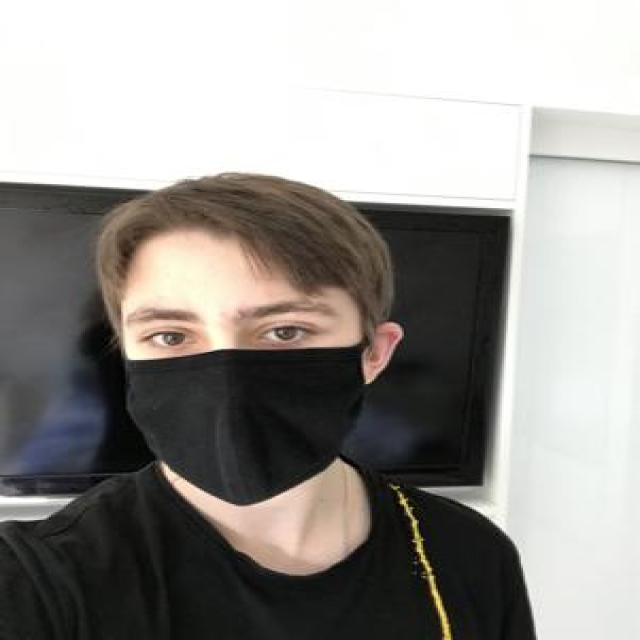with_mask: (122, 267, 367, 507)
